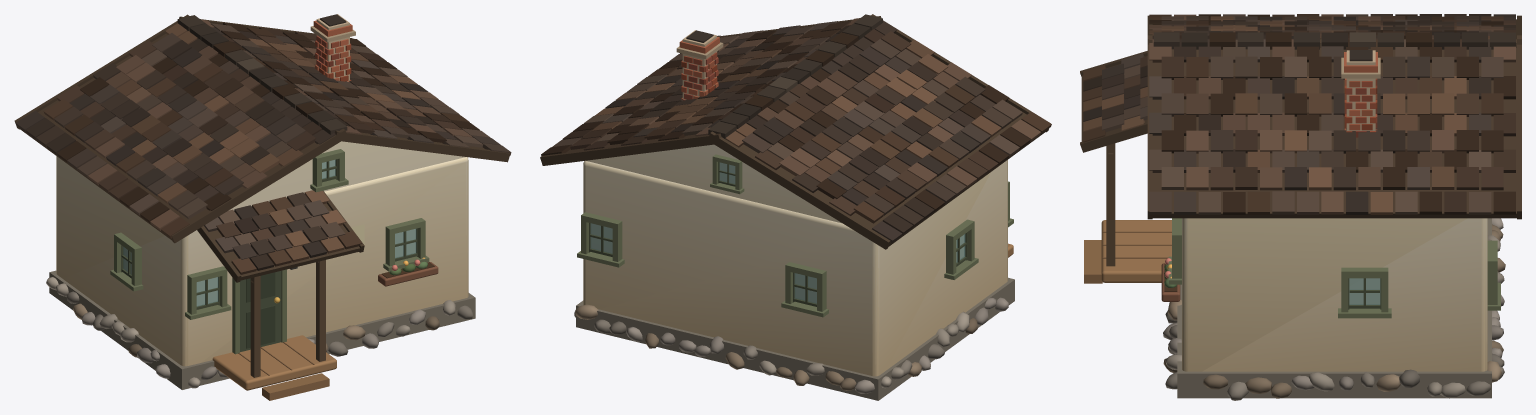
The model's file is farmhouse.glb.
3 views of the same model, side by side, from view 1: azimuth 30°, elevation 25°; view 2: azimuth 150°, elevation 25°; view 3: azimuth 270°, elevation 25° (orthographic). The views are drawn at different scales.
Parts seen in each view (by area): view 1: farmhouse.batch.0, farmhouseWalls, farmhouseFoundation, farmhouse.batch.1, farmhouse.batch.2, porch, frontDoor, chimney, windowFrame, windowPane (×2); view 2: farmhouseWalls, farmhouse.batch.0, farmhouseFoundation, windowFrame (×4), chimney, windowPane (×2); view 3: farmhouse.batch.0, farmhouseWalls, farmhouseFoundation, porch, farmhouse.batch.1, chimney, farmhouse.batch.2, windowFrame, windowPane.
Boxes of the visible parts, <box> form: farmhouse.batch.0: <box>14,14,511,282</box>; farmhouseWalls: <box>56,141,468,366</box>; farmhouseFoundation: <box>46,270,475,389</box>; farmhouse.batch.1: <box>238,257,438,400</box>; farmhouse.batch.2: <box>185,149,429,319</box>; porch: <box>212,335,336,390</box>; frontDoor: <box>232,269,286,354</box>; chimney: <box>310,14,355,81</box>; windowFrame: <box>110,232,143,291</box>; windowPane (×2): <box>196,229,416,306</box>; farmhouseWalls: <box>583,144,1007,376</box>; farmhouse.batch.0: <box>540,14,1051,249</box>; farmhouseFoundation: <box>574,277,1014,400</box>; windowFrame (×4): <box>577,154,978,317</box>; chimney: <box>676,30,723,100</box>; windowPane (×2): <box>590,223,816,303</box>; farmhouse.batch.0: <box>1080,14,1521,219</box>; farmhouseWalls: <box>1182,218,1487,371</box>; farmhouseFoundation: <box>1163,218,1505,400</box>; porch: <box>1101,220,1171,282</box>; farmhouse.batch.1: <box>1084,143,1180,301</box>; chimney: <box>1341,50,1380,137</box>; farmhouse.batch.2: <box>1168,218,1391,318</box>; windowFrame: <box>1487,240,1500,310</box>; windowPane: <box>1349,278,1380,304</box>.
Bounding box in the file's own units: 8.57 × 6.26 × 8.09.
